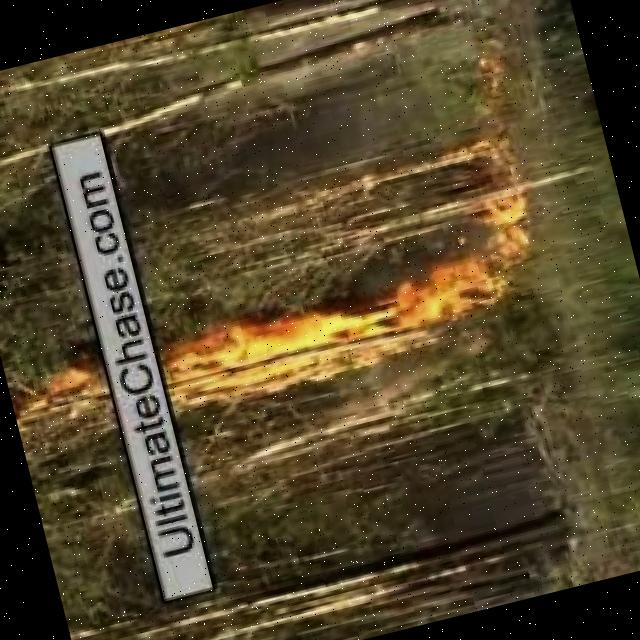fire: (153, 277, 455, 407), (432, 186, 556, 321), (12, 352, 115, 425)
